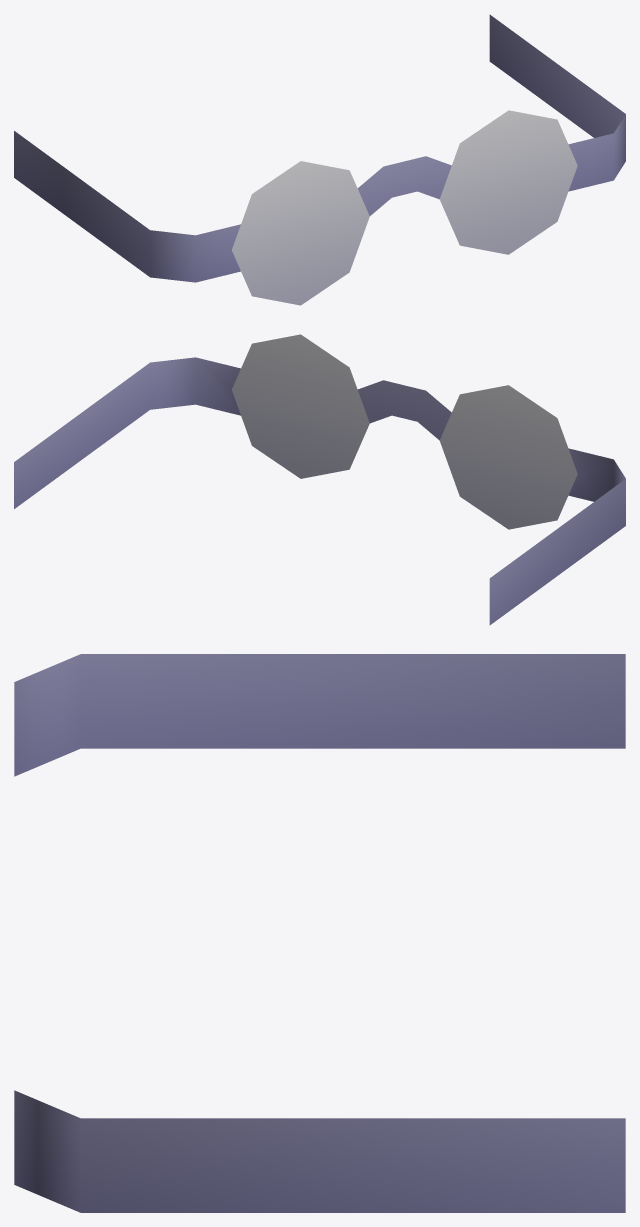
The model's file is aid-glasses.obj.
3 views of the same model, one above another, from view 1: azimuth 30°, elevation 25°; view 2: azimuth 150°, elevation 25°; view 3: azimuth 270°, elevation 25° (orthographic). The views are drawn at different scales.
Parts seen in each view (by area): view 1: aid-glasses; view 2: aid-glasses; view 3: aid-glasses.
Part boxes in pixels (x1=…): aid-glasses: x1=14, y1=14, x2=625, y2=305; aid-glasses: x1=14, y1=334, x2=625, y2=625; aid-glasses: x1=14, y1=654, x2=625, y2=1212.
Bounding box in the file's own units: 0.33 × 0.0958 × 0.1836.
Materials: 1 (1 with a texture image).
